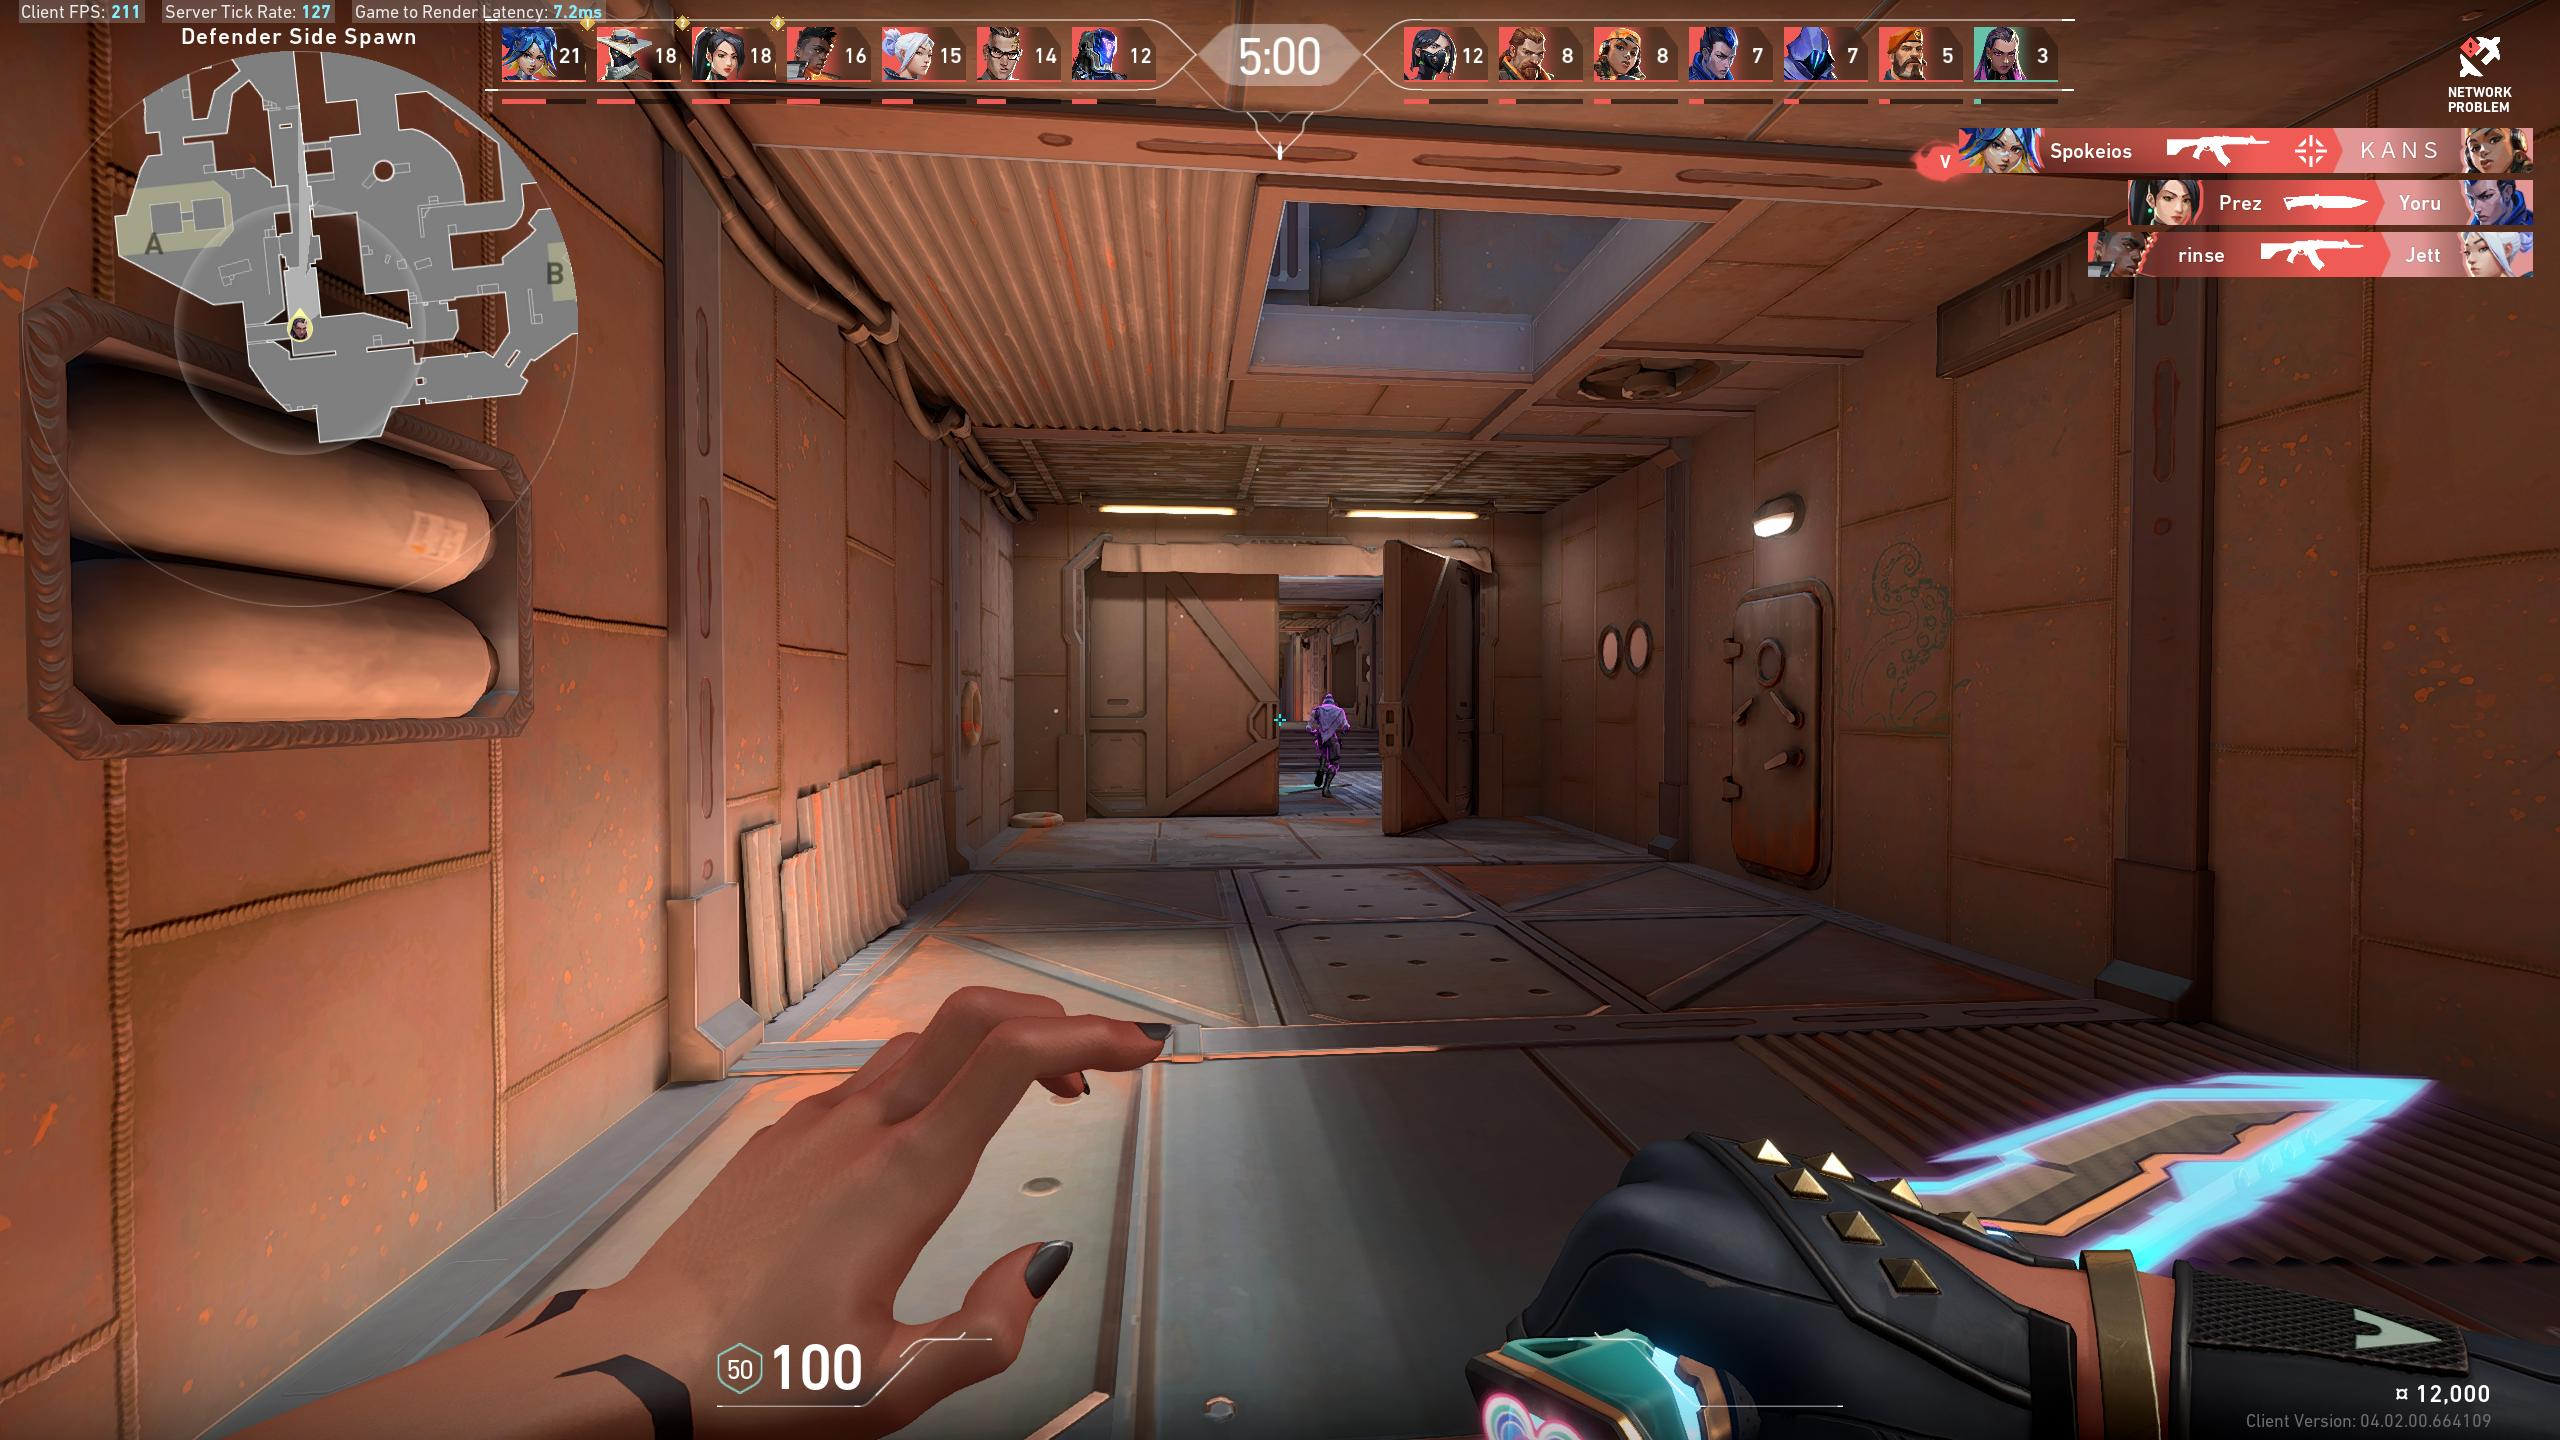enemyBody: (1319, 709, 1335, 737)
enemyHead: (1326, 696, 1333, 705)
